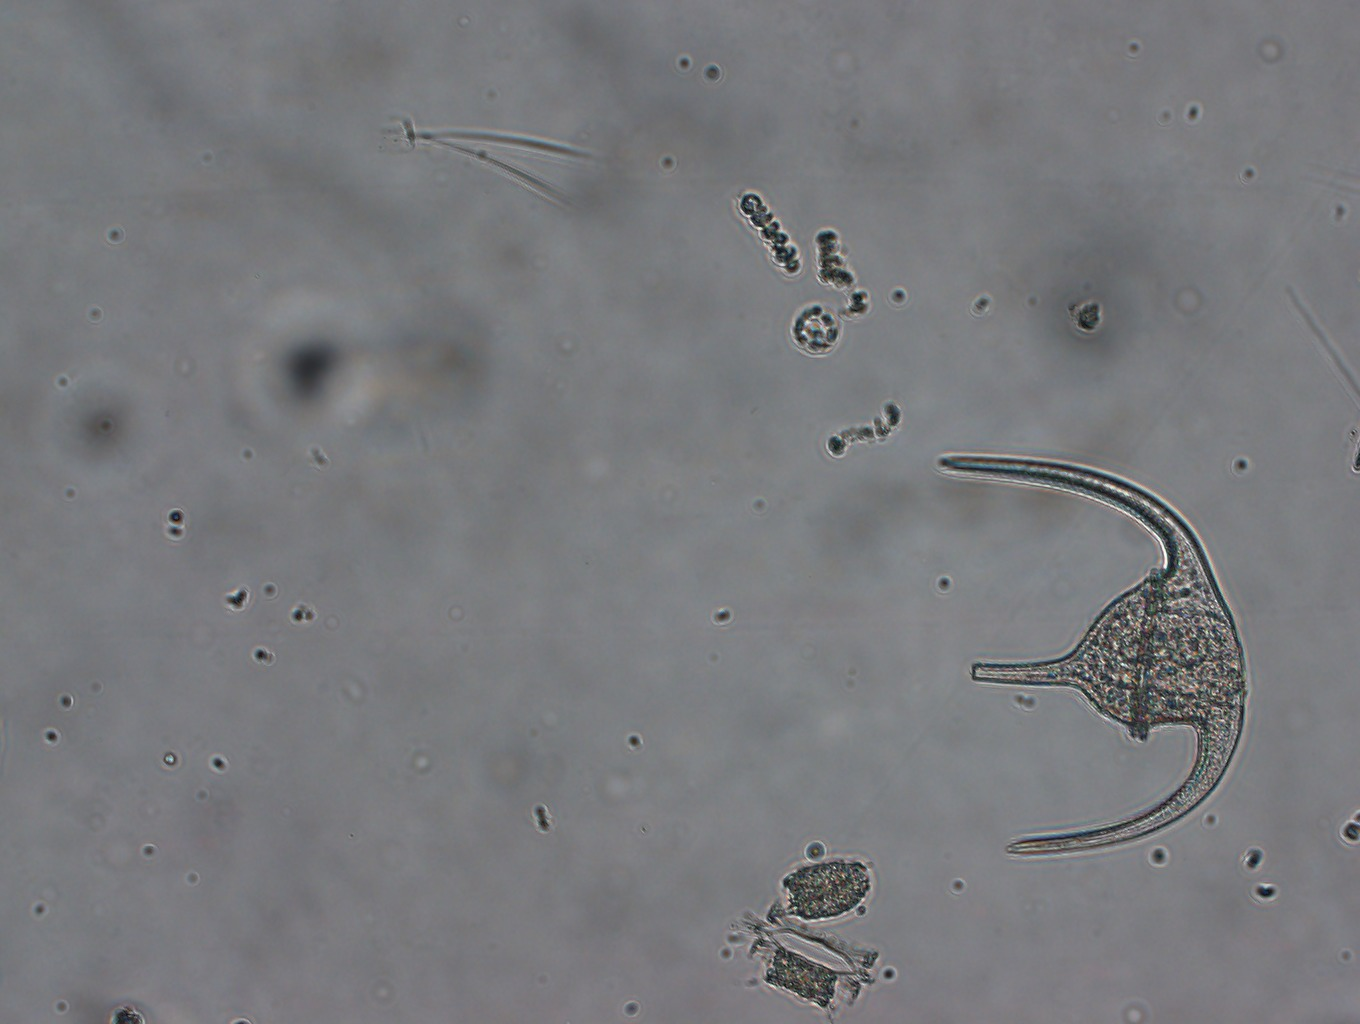ceratium tripos: (929, 445, 1256, 866)
